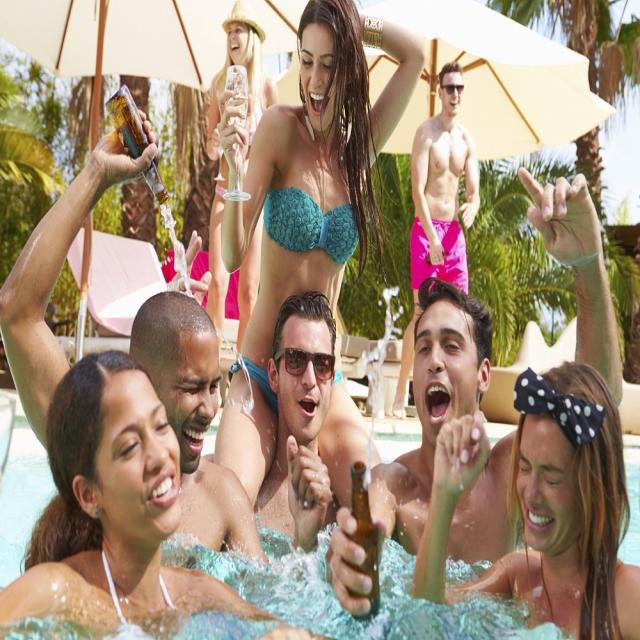body: (327, 165, 625, 620), (0, 103, 275, 583), (203, 0, 429, 555), (0, 342, 339, 639), (406, 359, 640, 640), (202, 288, 342, 542), (390, 61, 480, 423), (203, 0, 280, 361)
